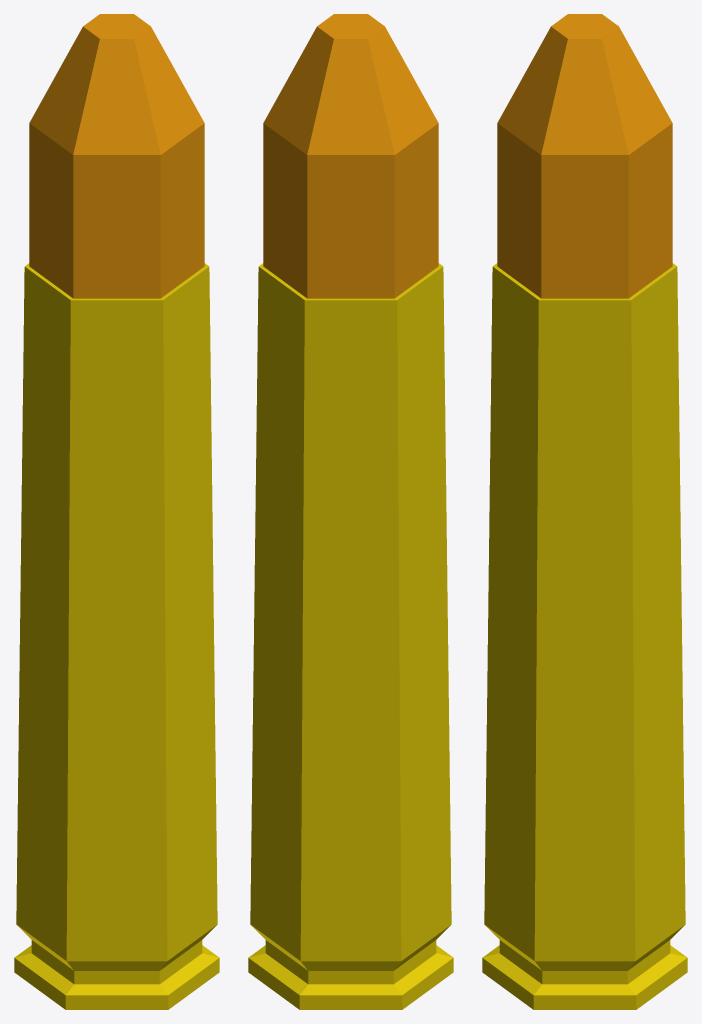
File: 30cal.glb
3 renders of one model, left to right at view 1: azimuth 30°, elevation 25°; view 2: azimuth 150°, elevation 25°; view 3: azimuth 270°, elevation 25°, orthographic.
Visible parts, largest first — view 1: Circle; view 2: Circle; view 3: Circle.
Boxes of the visible parts, left/top/right/bottom form: Circle: left=14, top=14, right=219, bottom=1009; Circle: left=248, top=14, right=453, bottom=1009; Circle: left=482, top=14, right=687, bottom=1009.
Bounding box in the file's own units: 0.0104 × 0.061 × 0.012.
